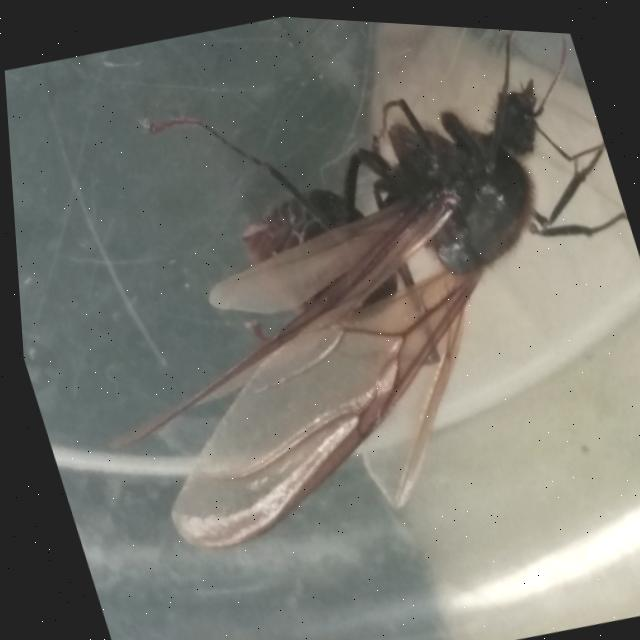Alive-Male-Alate: (0, 0, 640, 588)
